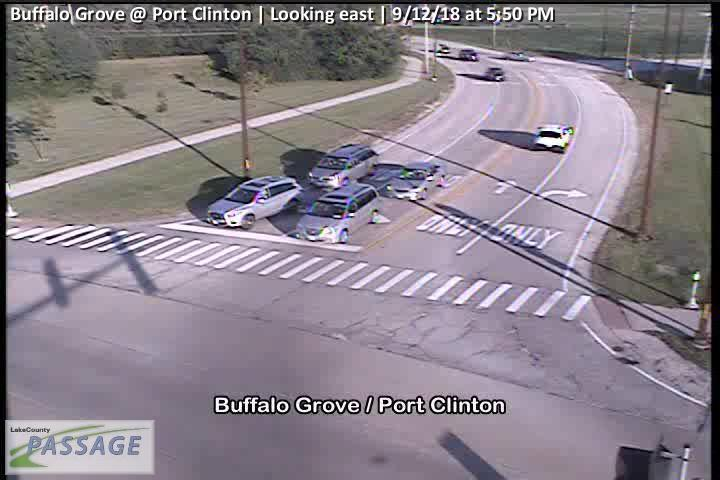Sedan: (206, 174, 305, 229), (296, 184, 383, 243), (307, 143, 381, 189), (389, 162, 447, 202), (531, 124, 571, 151), (507, 50, 535, 63), (460, 48, 480, 61), (488, 67, 504, 81)
